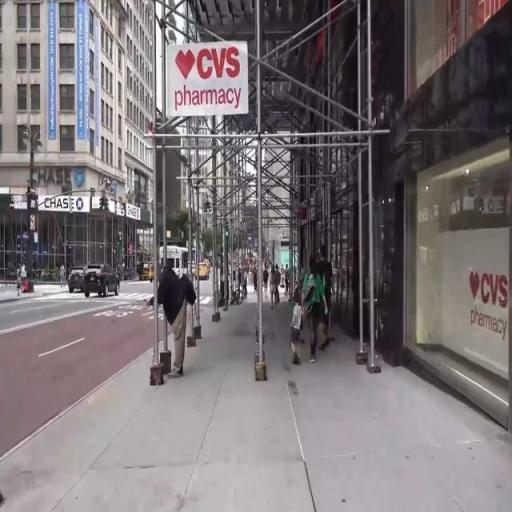person: (154, 262, 195, 387), (305, 259, 323, 369), (321, 246, 338, 338), (292, 289, 305, 362), (271, 263, 278, 313), (60, 264, 67, 293), (244, 265, 248, 303), (255, 264, 260, 292), (287, 267, 291, 294), (282, 264, 285, 291)
